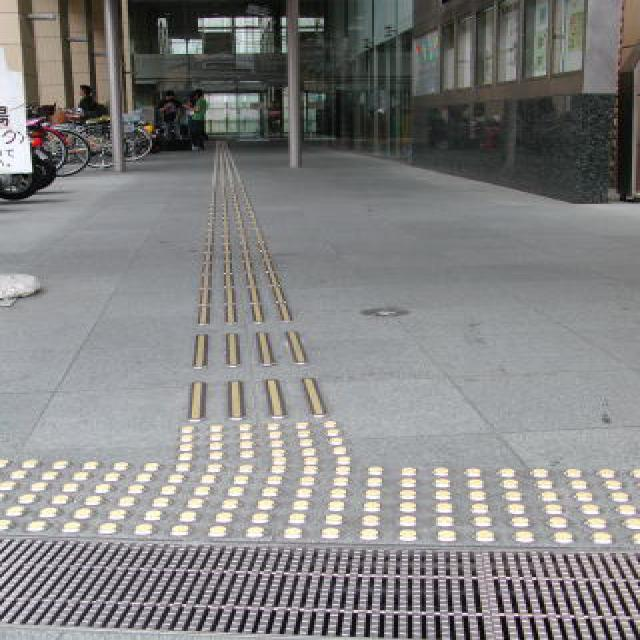tactile-guide-path: (0, 459, 638, 550), (184, 138, 330, 421), (176, 418, 358, 468)
